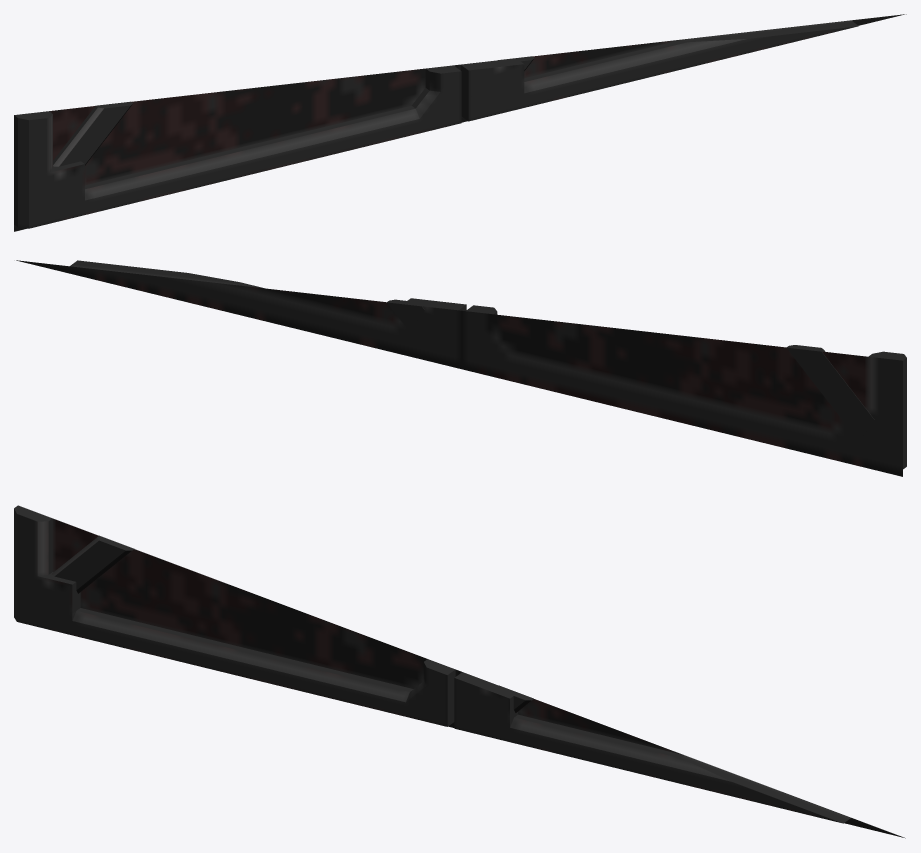
File: maint3_1_slice32lh.fbx
3 views of the same model, one above another, from view 1: azimuth 30°, elevation 25°; view 2: azimuth 150°, elevation 25°; view 3: azimuth 330°, elevation 25° (orthographic).
Parts seen in each view (by area): view 1: maint3_1_mesh_slice32lh; view 2: maint3_1_mesh_slice32lh; view 3: maint3_1_mesh_slice32lh.
Boxes of the visible parts, x1,y1,x2,y2 form: maint3_1_mesh_slice32lh: (14, 14, 906, 231); maint3_1_mesh_slice32lh: (16, 260, 906, 476); maint3_1_mesh_slice32lh: (14, 505, 905, 838).
Bounding box in the file's own units: 256 × 32 × 4.11.
